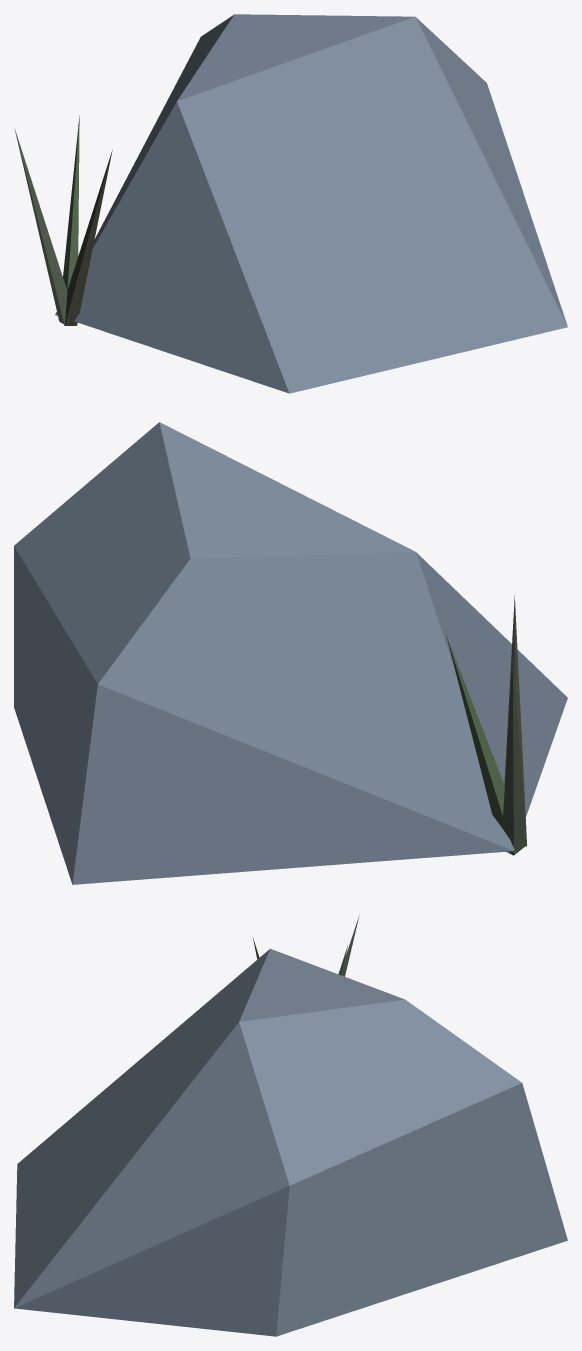
The model's file is roca1.glb.
3 renders of one model, top to bottom at view 1: azimuth 30°, elevation 25°; view 2: azimuth 150°, elevation 25°; view 3: azimuth 270°, elevation 25°, orthographic. The views are drawn at different scales.
Visible parts, largest first — view 1: Rock-pack-ver3_Texture-base_0; view 2: Rock-pack-ver3_Texture-base_0; view 3: Rock-pack-ver3_Texture-base_0.
Part boxes in pixels (x1=…): Rock-pack-ver3_Texture-base_0: x1=14, y1=14, x2=567, y2=393; Rock-pack-ver3_Texture-base_0: x1=14, y1=422, x2=567, y2=884; Rock-pack-ver3_Texture-base_0: x1=14, y1=915, x2=567, y2=1336.
Size of the model in its own units: 1.29 by 0.691 by 1.29.
Materials: 1 (1 with a texture image).
